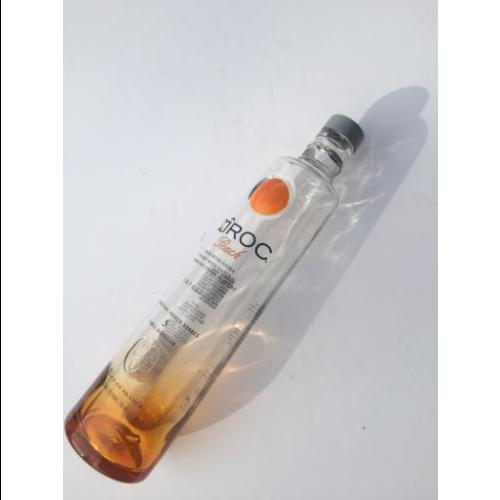glass: (66, 120, 362, 484)
